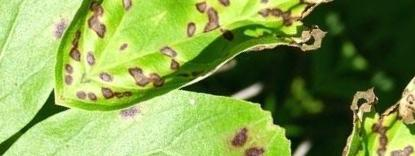Tomato leaf bacterial spot: (34, 0, 409, 156), (0, 0, 289, 156)
